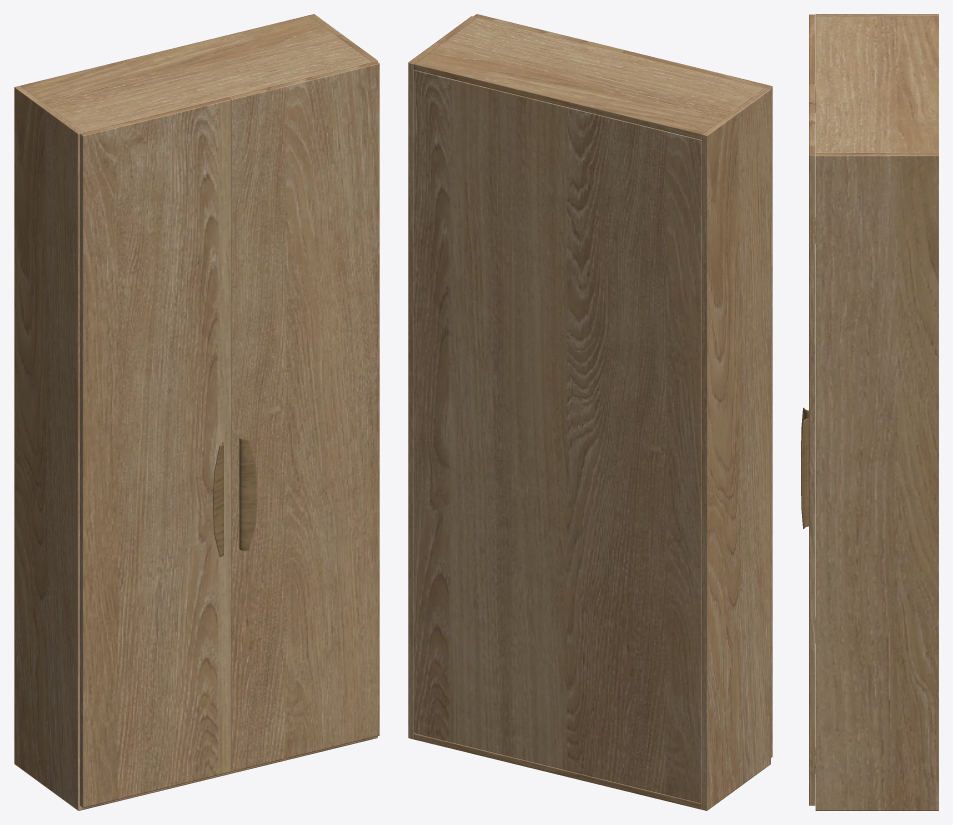
File: wardrobeWood.glb
The picture shows the model from 3 angles, left to right: view 1: azimuth 30°, elevation 25°; view 2: azimuth 150°, elevation 25°; view 3: azimuth 270°, elevation 25°; orthographic projection. The views are drawn at different scales.
Visible parts, largest first — view 1: Frame, Knob; view 2: Frame; view 3: Frame, Knob.
Part boxes in pixels (<box>): Frame: <box>14,14,379,810</box>; Knob: <box>213,438,257,556</box>; Frame: <box>408,14,772,810</box>; Frame: <box>809,14,938,810</box>; Knob: <box>801,408,808,528</box>.
Size of the model in its own units: 1.02 by 2.2 by 0.4195.
Materials: 3 (2 with a texture image).
